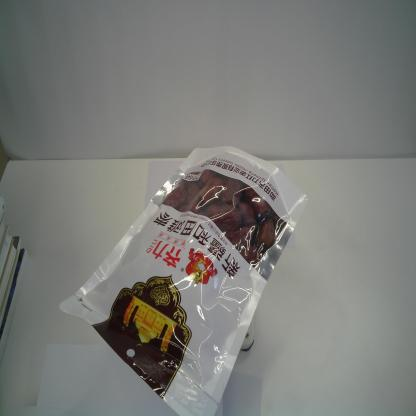Dried Food: (56, 146, 308, 416)
